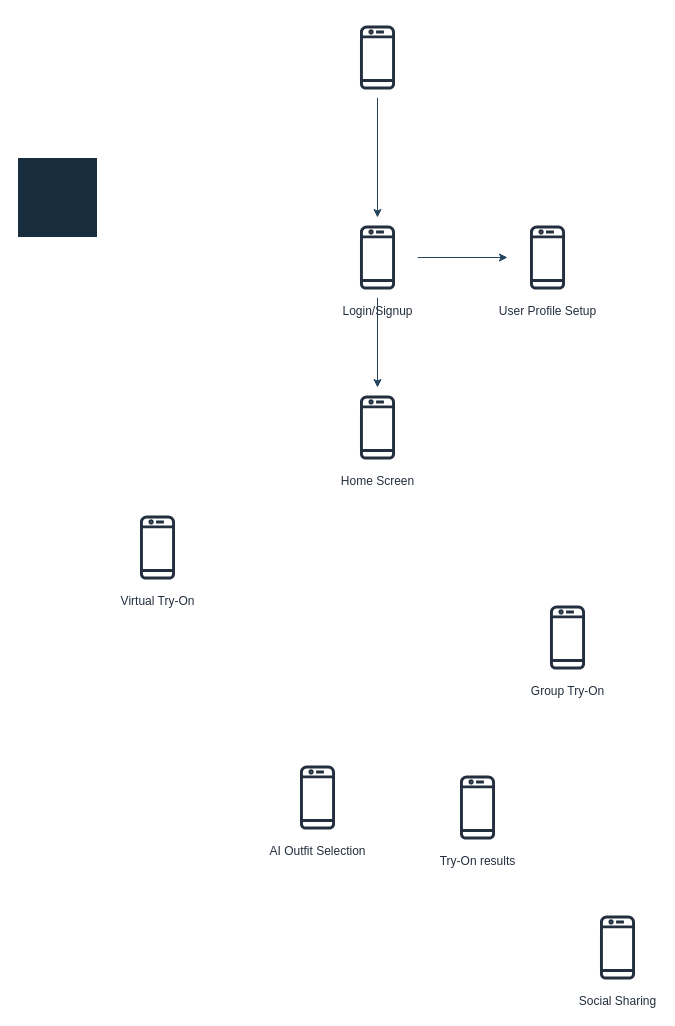
The diagram is 675 pixels wide and 1026 high, and some of its shapes have lost their labels. Here are the shapes that lost their labels. From the top down, the centre of each, then its label:
At (377,57): "Splash Screen".
At (57,197): "Admin Panel".
